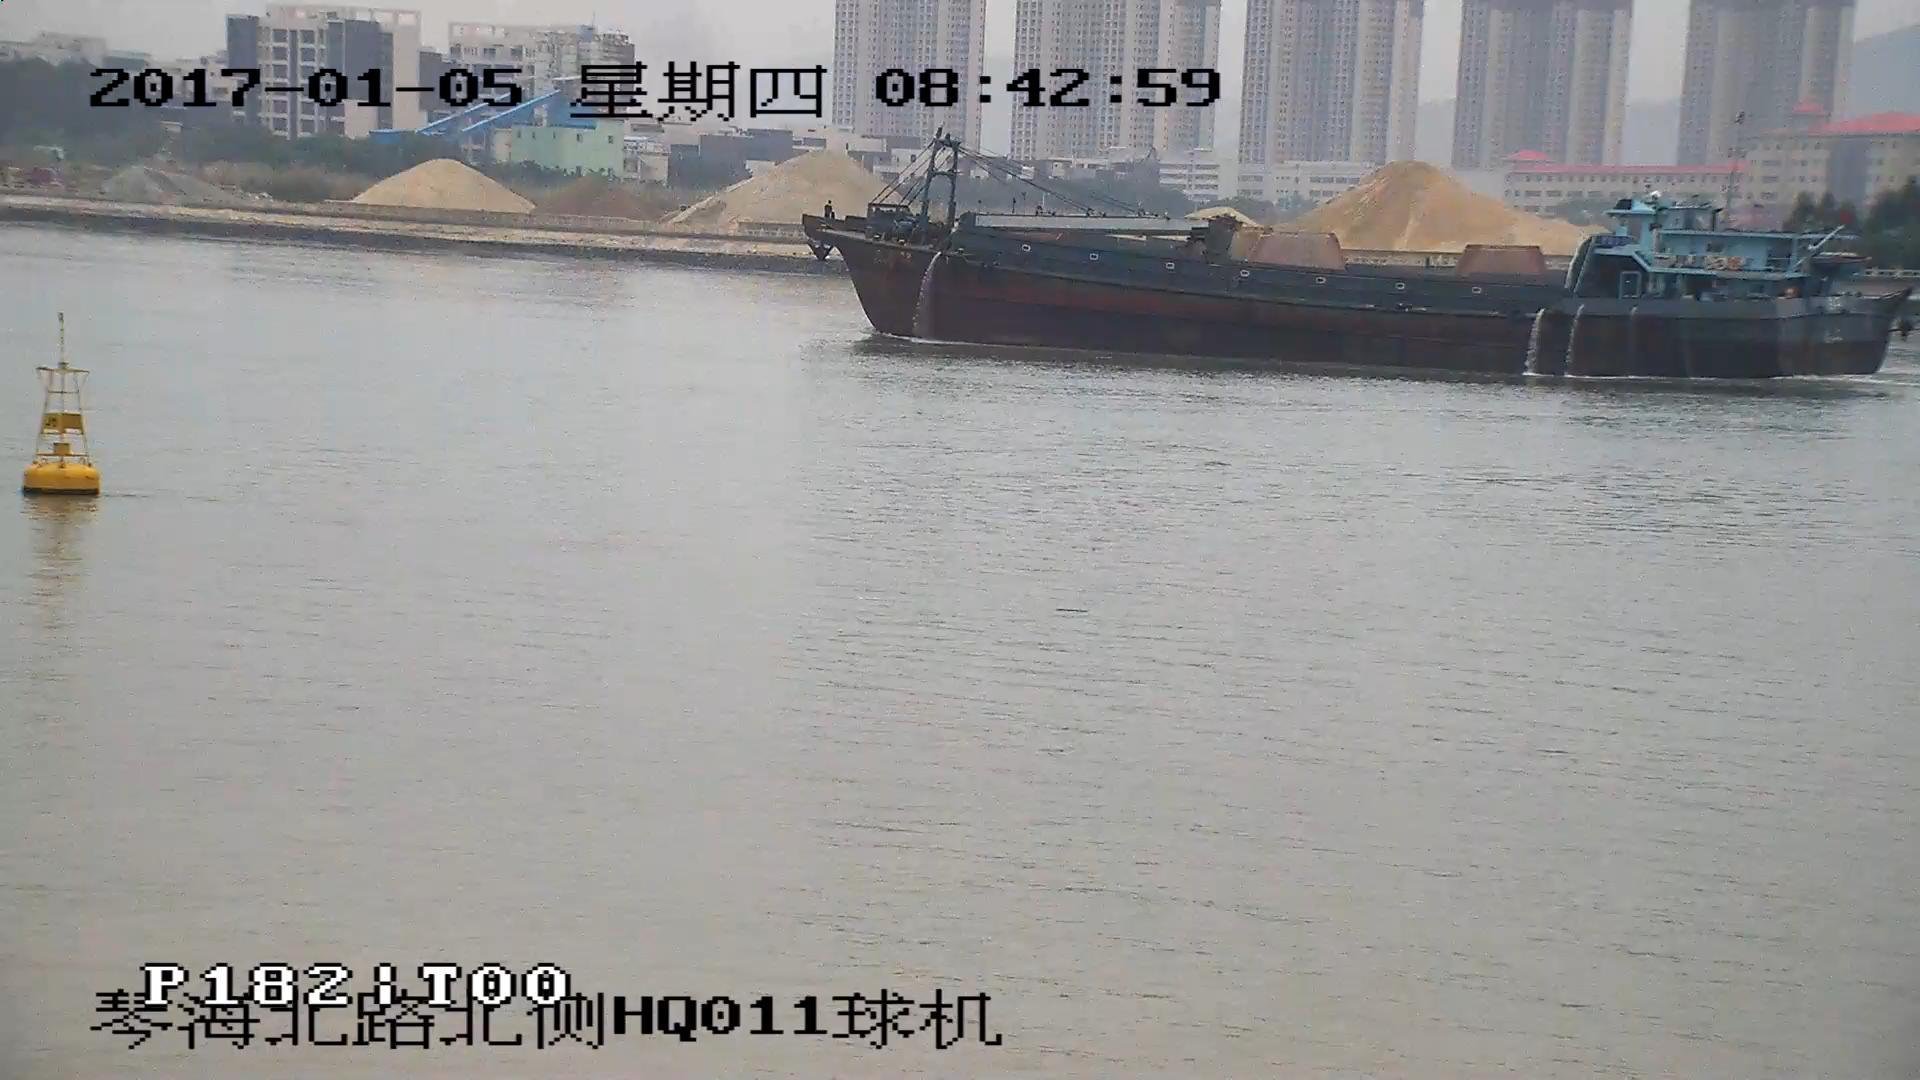Ship: (804, 142, 1913, 375)
